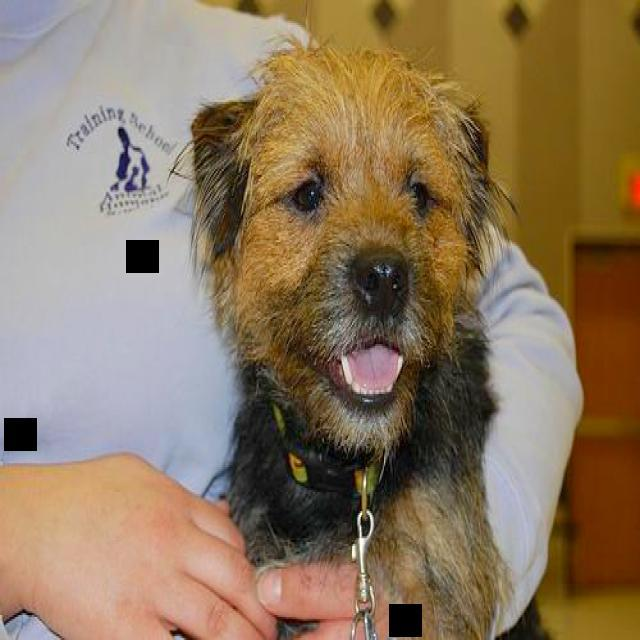adult_dog: (176, 30, 525, 640)
